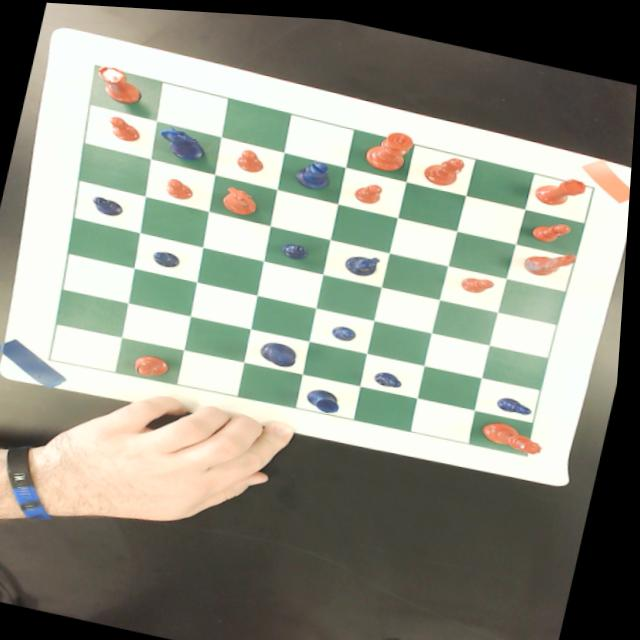B: (292, 152, 338, 189)
K: (263, 335, 306, 365)
N: (152, 119, 216, 163), (342, 244, 387, 277)
P: (91, 193, 129, 217), (500, 388, 540, 410), (282, 236, 313, 258), (377, 364, 410, 384), (155, 247, 185, 266), (334, 319, 362, 338)
R: (309, 382, 347, 410)
b: (424, 145, 469, 183), (135, 349, 176, 379)
k: (367, 121, 417, 170)
n: (520, 235, 582, 275), (220, 181, 266, 215)
p: (531, 208, 576, 238), (106, 113, 147, 141), (237, 144, 270, 171), (354, 174, 387, 201), (462, 267, 499, 291), (166, 174, 200, 198)
q: (484, 412, 553, 449)
r: (89, 60, 148, 105), (536, 164, 592, 204)
